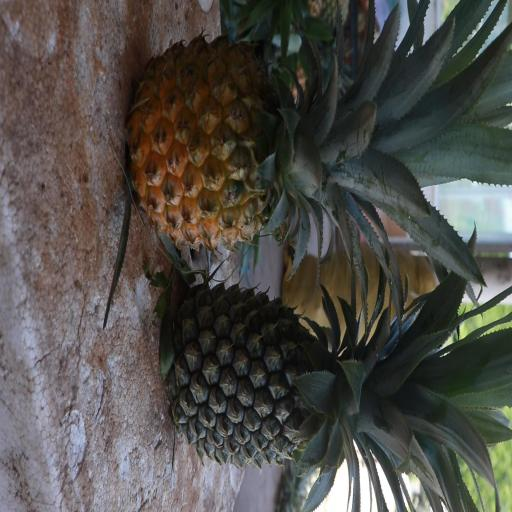Pineapple - v8 v1: (131, 45, 458, 241)
